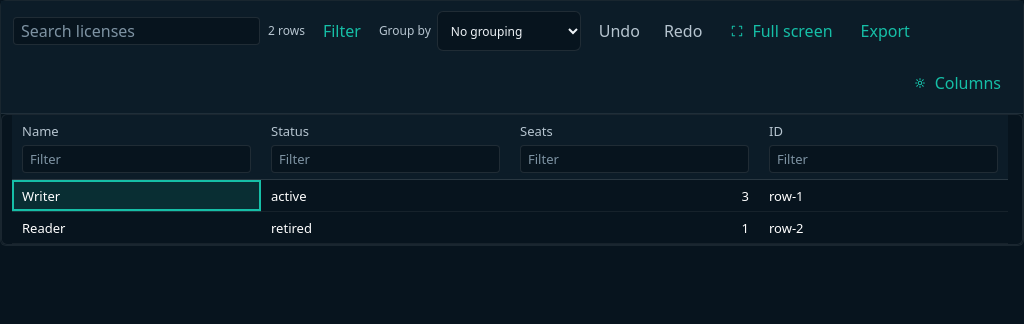
typing replaces a cell, Escape reverts it, and Enter commits the canonical value
Press a in the table, box [12,115,1012,244]
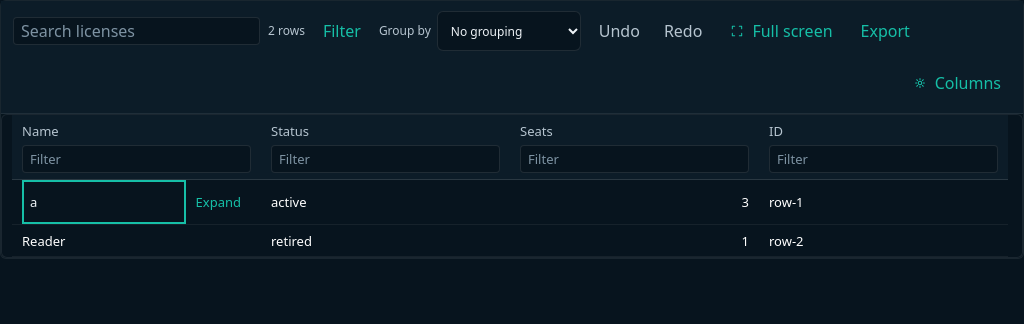
Now the field named "Name for Writer" holds "a"
Press Escape in the field named "Name for Writer", box [22,180,186,224]
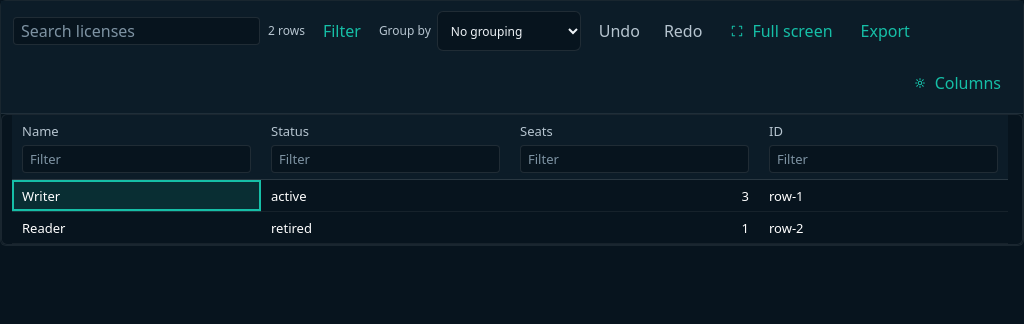
Expected: the text "cell changed" is not shown
Press Enter in the table, box [12,115,1012,244]
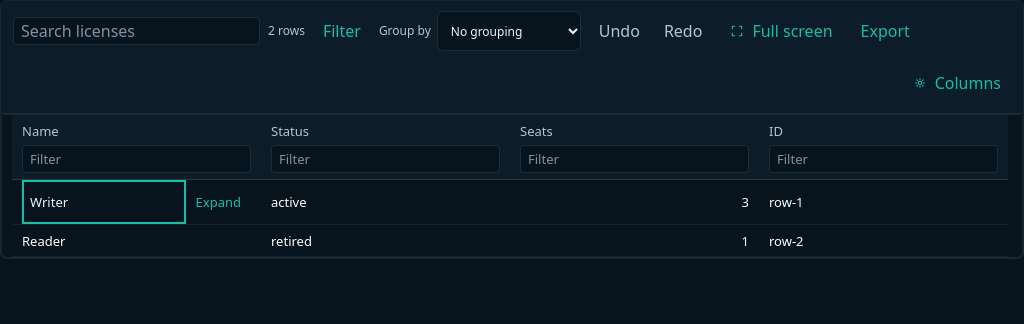
Now the field named "Name for Writer" holds "Writer"
Replace the text in the field named "Name for Writer" with "Composer" at (104, 202), box [22,180,186,224]
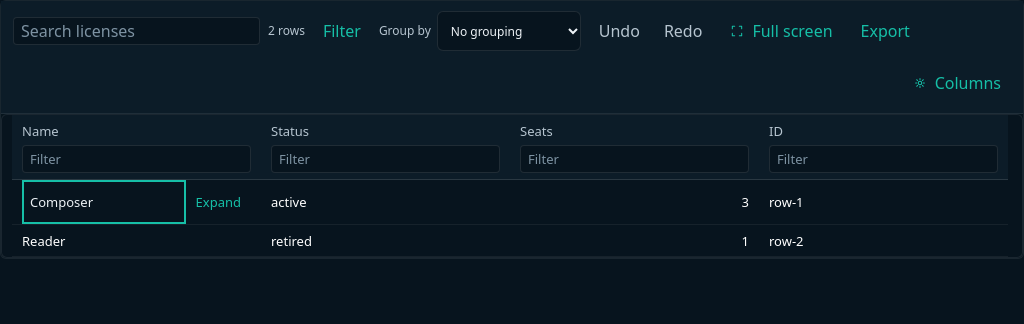
Press Enter in the field named "Name for Writer", box [22,180,186,224]
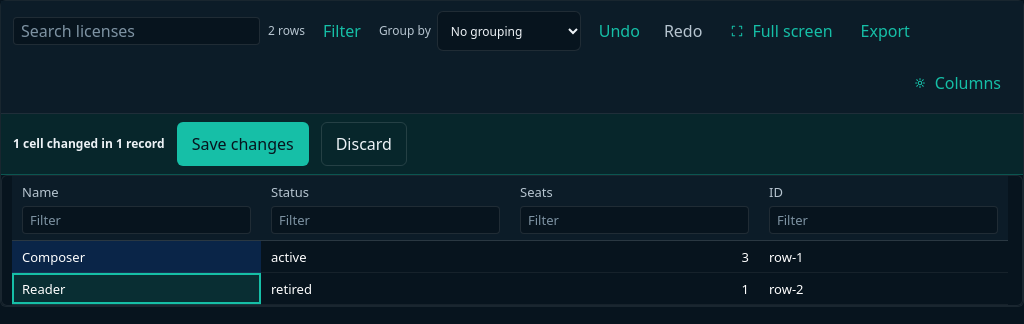
Now the text "1 cell changed in 1 record" is shown, box [13,136,165,152]
Now the cell "Composer" is shown, box [12,241,261,273]
